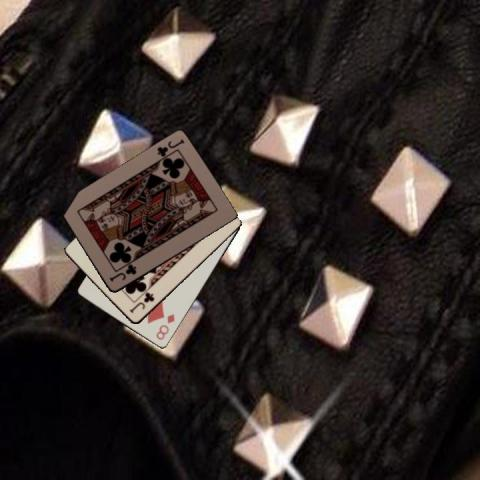8d: (153, 311, 176, 341)
Jc: (154, 136, 186, 159), (127, 290, 156, 315), (107, 262, 138, 284)
